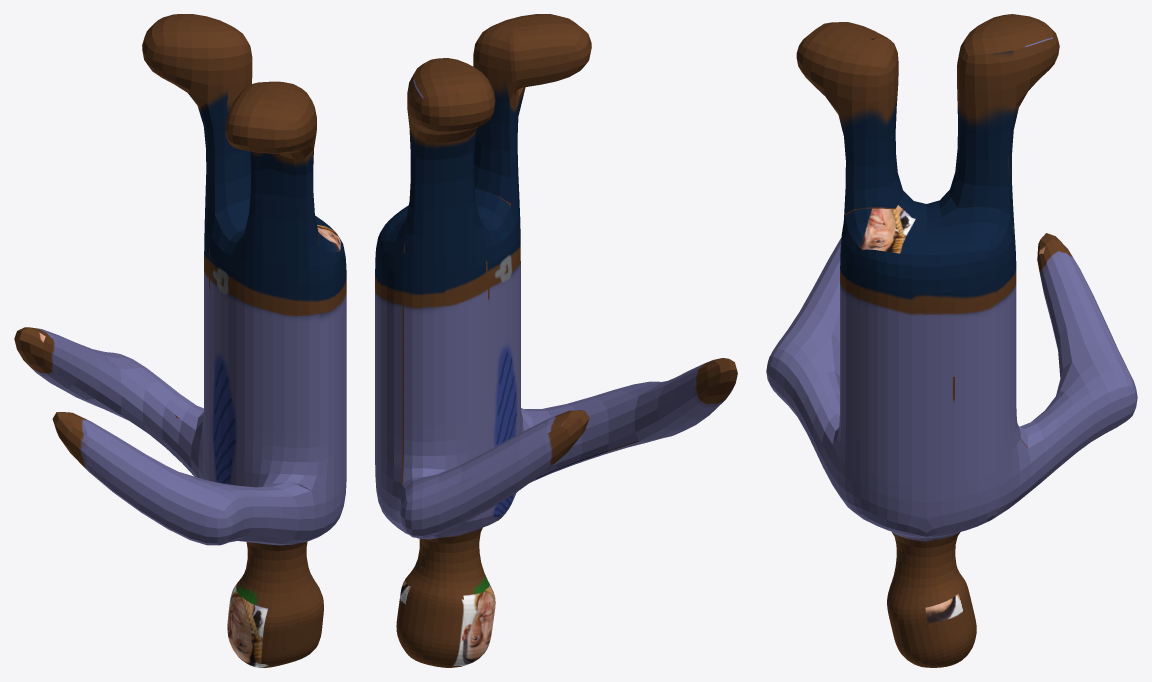
The model's file is sleepyJoe.obj.
The picture shows the model from 3 angles, left to right: view 1: azimuth 30°, elevation 25°; view 2: azimuth 150°, elevation 25°; view 3: azimuth 270°, elevation 25°; orthographic projection. The views are drawn at different scales.
Parts seen in each view (by area): view 1: Cube; view 2: Cube; view 3: Cube.
Boxes of the visible parts, bbox=[...] form: Cube: bbox=[14, 14, 346, 667]; Cube: bbox=[375, 14, 737, 667]; Cube: bbox=[766, 14, 1137, 667].
Bounding box in the file's own units: 10.89 × 20.84 × 11.44.
Materials: 1 (1 with a texture image).
